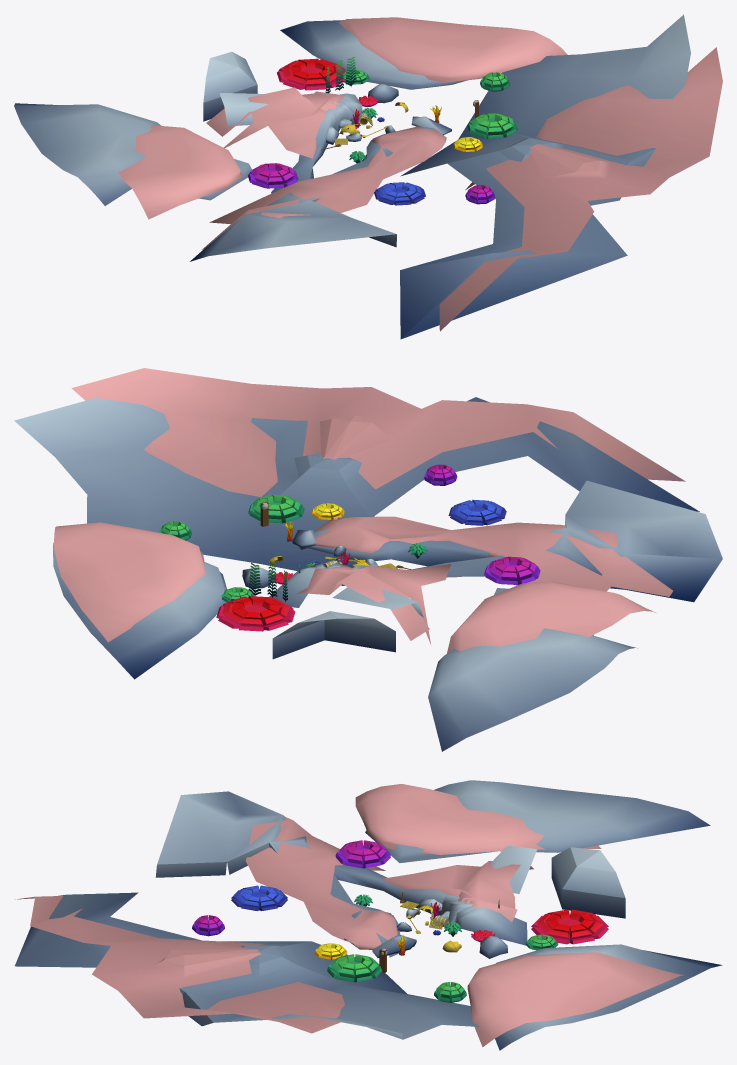
Rendered from all.fbx.
3 views of the same model, one above another, from view 1: azimuth 30°, elevation 25°; view 2: azimuth 150°, elevation 25°; view 3: azimuth 270°, elevation 25° (orthographic). The views are drawn at different scales.
Visible parts, largest first — view 1: pSphere7, pSphere27, pCylinder12, pSphere26, pCylinder2, pSphere28, pSphere29, pSphere8, pSphere5, pSphere34, pSphere31, pSphere32 (+1 smaller); view 2: pSphere7, pSphere27, pCylinder2, pCylinder12, pSphere28, pSphere26, pSphere29, pSphere8, pSphere5, pSphere34, pSphere32, pSphere37 (+1 smaller); view 3: pSphere7, pSphere27, pCylinder2, pCylinder12, pSphere26, pSphere28, pSphere29, pSphere5, pSphere8, pSphere34, pSphere31, pSphere32 (+5 smaller).
Part boxes in pixels (x1,y1,x2,y2): pSphere7: [400, 14, 690, 339]; pSphere27: [439, 47, 722, 331]; pCylinder12: [202, 87, 446, 249]; pSphere26: [338, 17, 567, 82]; pCylinder2: [190, 92, 433, 261]; pSphere28: [14, 103, 252, 205]; pSphere29: [118, 125, 243, 219]; pSphere8: [280, 20, 467, 89]; pSphere5: [203, 52, 257, 121]; pSphere34: [277, 58, 345, 90]; pSphere31: [467, 113, 517, 138]; pSphere32: [248, 163, 298, 188]; pSphere7: [14, 397, 699, 570]; pSphere27: [71, 368, 685, 516]; pCylinder2: [269, 480, 722, 617]; pCylinder12: [296, 516, 672, 645]; pSphere28: [428, 588, 637, 751]; pSphere26: [53, 522, 205, 642]; pSphere29: [447, 582, 655, 653]; pSphere8: [53, 543, 226, 679]; pSphere5: [272, 611, 395, 659]; pSphere34: [216, 596, 295, 631]; pSphere32: [484, 556, 540, 584]; pSphere37: [448, 499, 506, 525]; pSphere7: [15, 892, 479, 1039]; pSphere27: [15, 896, 344, 1033]; pCylinder2: [155, 791, 537, 957]; pCylinder12: [245, 817, 533, 949]; pSphere26: [467, 952, 683, 1046]; pSphere28: [365, 780, 710, 862]; pSphere29: [355, 784, 601, 854]; pSphere5: [551, 847, 625, 918]; pSphere8: [495, 944, 722, 1050]; pSphere34: [531, 909, 608, 944]; pSphere31: [327, 954, 382, 982]; pSphere32: [335, 840, 390, 868].
Size of what is drawn, in the model's own units: 54.26 by 8.51 by 53.46.
3 materials, 1 textured.
